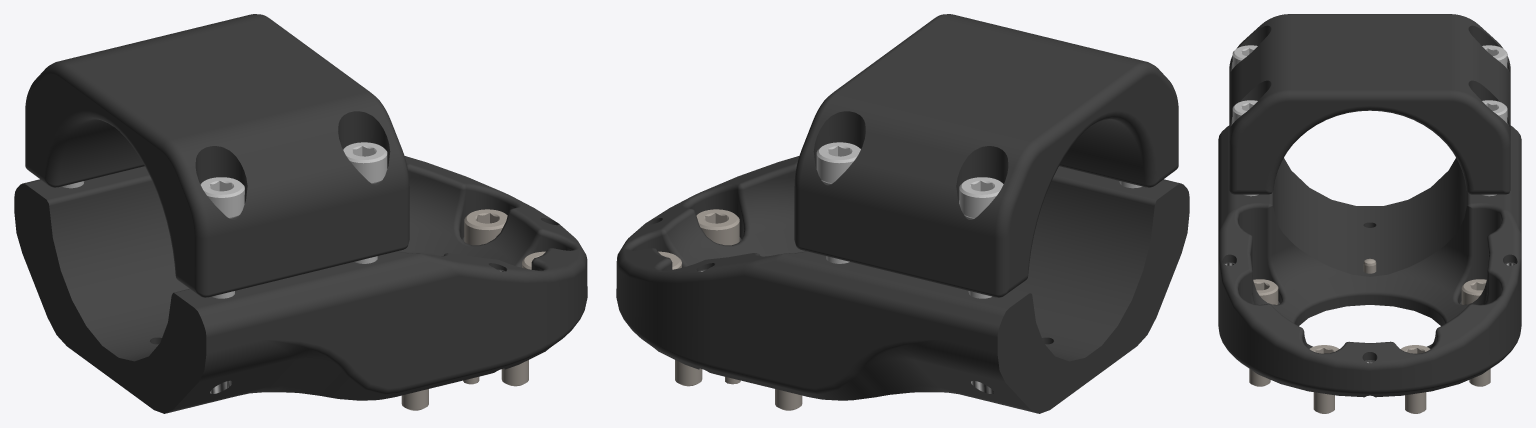
Rendered from A-2631-01_Output_Tube_Adapter_Size_55.obj.
The picture shows the model from 3 angles, left to right: view 1: azimuth 30°, elevation 25°; view 2: azimuth 150°, elevation 25°; view 3: azimuth 270°, elevation 25°; orthographic projection. The views are drawn at different scales.
Visible parts, largest first — view 1: mesh 1 PM-3231-01-1, mesh 4 PP-2452-08-1, mesh 3 Fillet13 face; view 2: mesh 1 PM-3231-01-1, mesh 4 PP-2452-08-1, mesh 3 Fillet13 face; view 3: mesh 1 PM-3231-01-1, mesh 3 Fillet13 face, mesh 4 PP-2452-08-1.
Boxes of the visible parts, <box> form: mesh 1 PM-3231-01-1: <box>14,14,587,413</box>; mesh 4 PP-2452-08-1: <box>61,142,387,298</box>; mesh 3 Fillet13 face: <box>401,209,545,410</box>; mesh 1 PM-3231-01-1: <box>616,14,1189,413</box>; mesh 4 PP-2452-08-1: <box>816,142,1142,298</box>; mesh 3 Fillet13 face: <box>658,209,802,410</box>; mesh 1 PM-3231-01-1: <box>1218,14,1521,397</box>; mesh 3 Fillet13 face: <box>1249,258,1490,413</box>; mesh 4 PP-2452-08-1: <box>1232,45,1507,196</box>.
Bounding box in the file's own units: 0.095 × 0.062 × 0.07.
